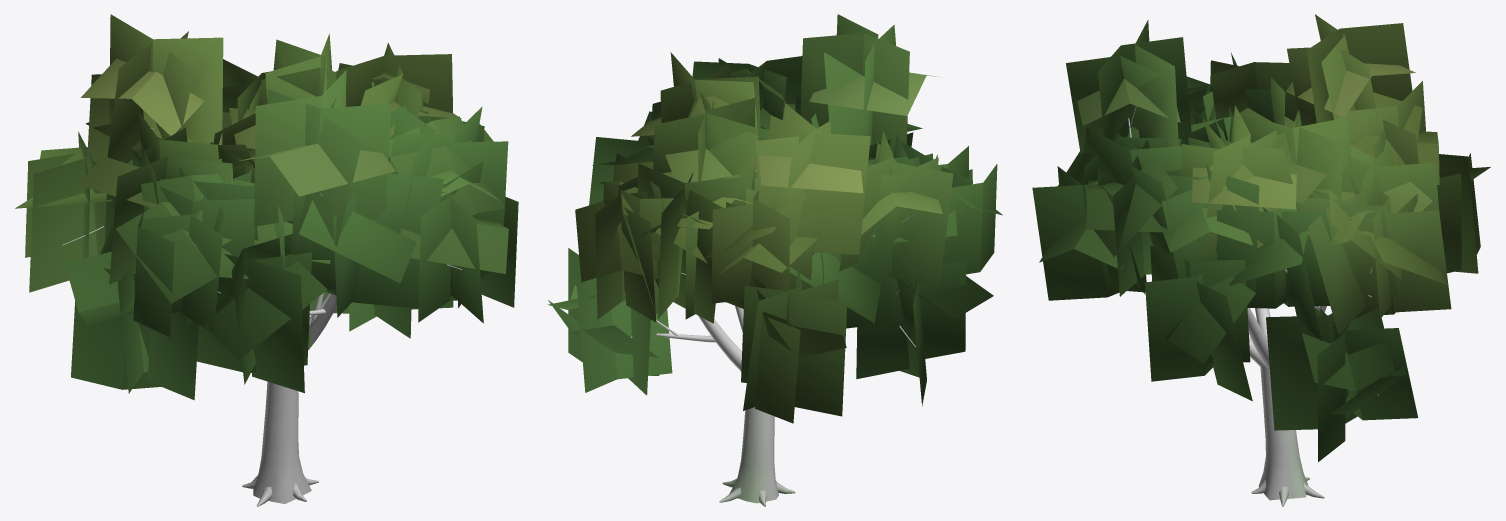
File: island_tree_01.glb
3 renders of one model, left to right at view 1: azimuth 30°, elevation 25°; view 2: azimuth 150°, elevation 25°; view 3: azimuth 270°, elevation 25°, orthographic. The views are drawn at different scales.
Parts seen in each view (by area): view 1: isl_island_tree_01; view 2: isl_island_tree_01; view 3: isl_island_tree_01.
Boxes of the visible parts, x1,y1,x2,y2 form: isl_island_tree_01: (15,14,518,506); isl_island_tree_01: (547,14,1002,506); isl_island_tree_01: (1032,14,1490,506).
Bounding box in the file's own units: 9.51 × 10.03 × 9.74.
